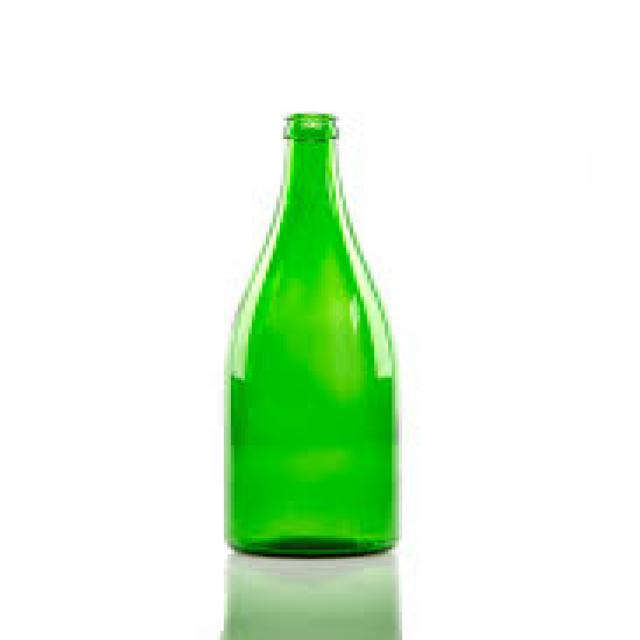glass: (221, 112, 396, 557)
